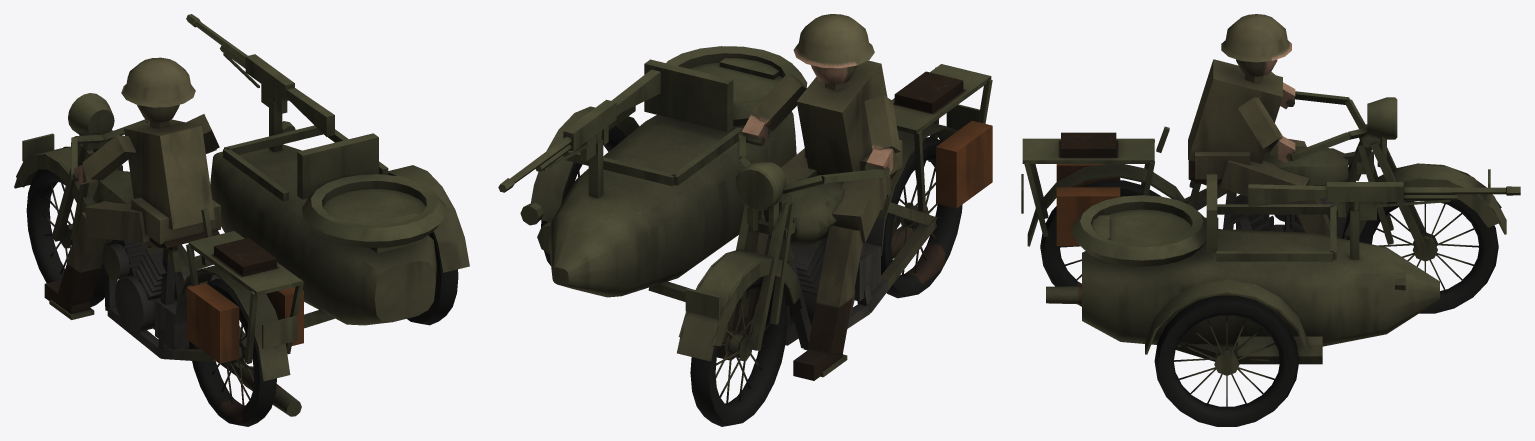
Rendered from SOKOL1000.fbx.
3 renders of one model, left to right at view 1: azimuth 30°, elevation 25°; view 2: azimuth 150°, elevation 25°; view 3: azimuth 270°, elevation 25°, orthographic. The views are drawn at different scales.
Parts seen in each view (by area): view 1: Chassis, Motard, Axis, Roue_03, Roue_Droite_01, Axe_Canon_01, Roue_02, Canon_01; view 2: Chassis, Motard, Axis, Roue_Droite_01, Roue_03, Axe_Canon_01, Canon_01, Roue_02; view 3: Chassis, Motard, Roue_02, Axis, Roue_Droite_01, Axe_Canon_01, Roue_03, Canon_01.
Part boxes in pixels (x1,y1,x2,y2): Chassis: (49,98,469,416); Motard: (44,57,220,313); Axis: (14,93,149,241); Roue_03: (189,278,276,426); Roue_Droite_01: (26,169,104,307); Axe_Canon_01: (220,45,334,136); Roue_02: (407,232,458,325); Canon_01: (186,14,247,62); Chassis: (520,46,992,377); Motard: (717,14,902,380); Axis: (677,133,889,361); Roue_Droite_01: (690,276,787,426); Roue_03: (881,136,962,298); Axe_Canon_01: (536,69,660,171); Canon_01: (498,136,571,192); Roue_02: (541,126,626,265); Chassis: (1021,126,1439,364); Motard: (1188,14,1349,239); Roue_02: (1154,295,1299,426); Axis: (1286,91,1506,256); Roue_Droite_01: (1359,199,1498,313); Axe_Canon_01: (1248,182,1456,220); Roue_03: (1040,180,1161,306); Canon_01: (1403,186,1520,195).
Size of the model in its own units: 169 by 235 by 153.
Materials: 1 (1 with a texture image).
